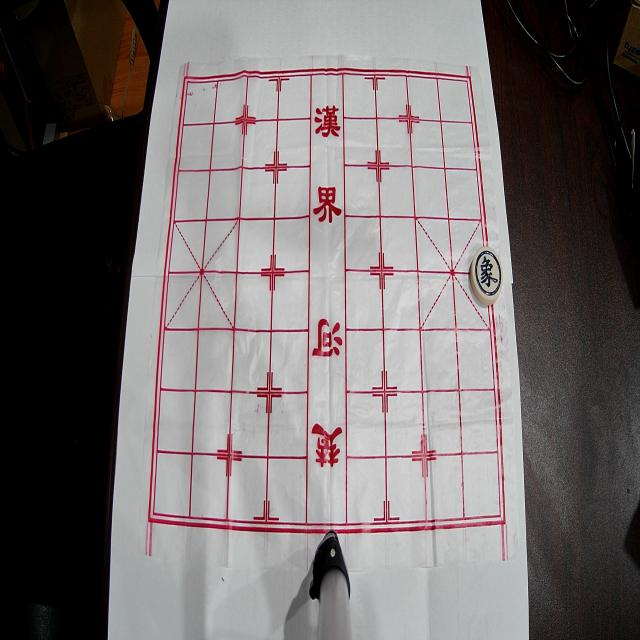black-elephant: (471, 247, 504, 305)
